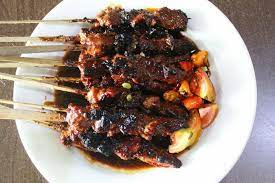ayam_geprek: (53, 44, 170, 174)
